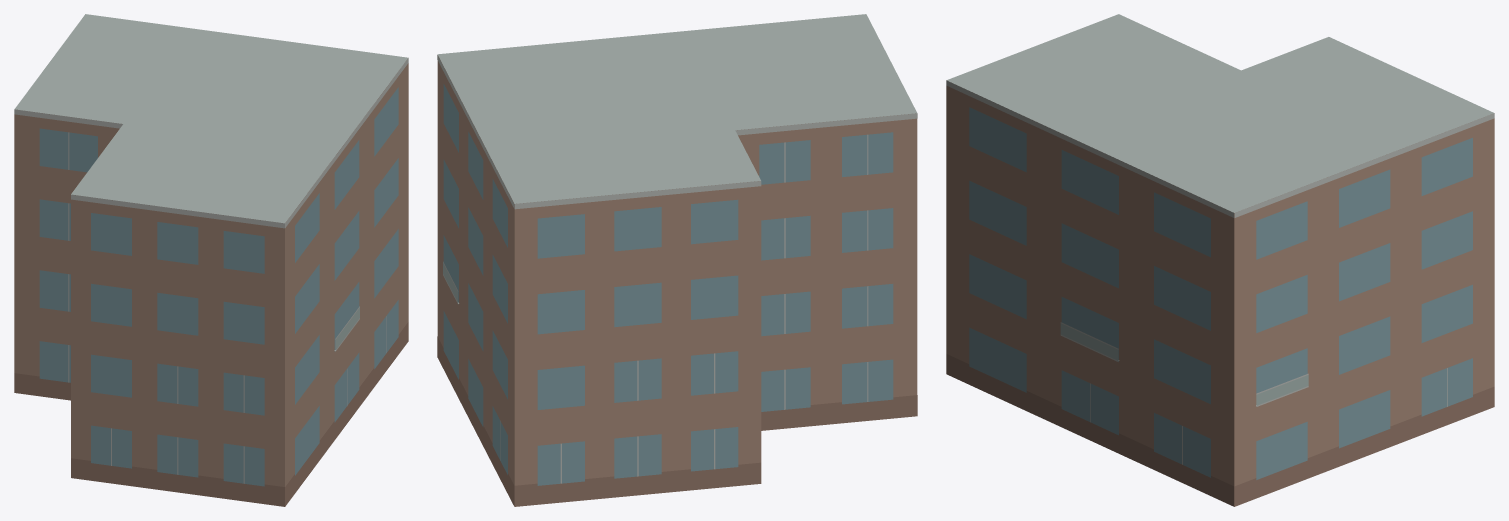
The model's file is survey-upis-33011597.glb.
The picture shows the model from 3 angles, left to right: view 1: azimuth 30°, elevation 25°; view 2: azimuth 150°, elevation 25°; view 3: azimuth 270°, elevation 25°; orthographic projection. The views are drawn at different scales.
Visible parts, largest first — view 1: survey-upis-33011597.tmp; view 2: survey-upis-33011597.tmp; view 3: survey-upis-33011597.tmp.
Part boxes in pixels (box(x1,y1,x2,y2)): survey-upis-33011597.tmp: box(14, 14, 408, 506); survey-upis-33011597.tmp: box(437, 14, 917, 506); survey-upis-33011597.tmp: box(946, 14, 1494, 506).
Size of the model in its own units: 19.9 by 13.7 by 23.17.
